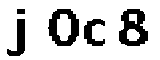0: (45, 6, 80, 46)
8: (118, 5, 149, 48)
c: (83, 18, 107, 48)
j: (2, 4, 28, 56)
